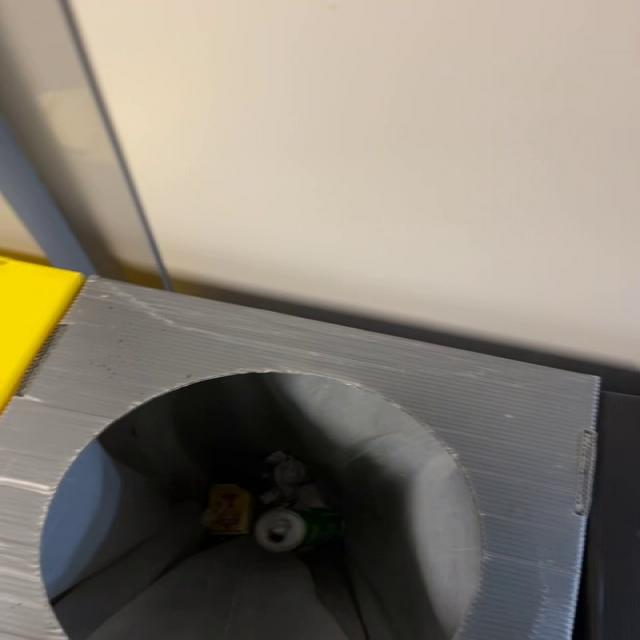bin: (2, 278, 598, 640)
metal: (255, 509, 343, 554)
